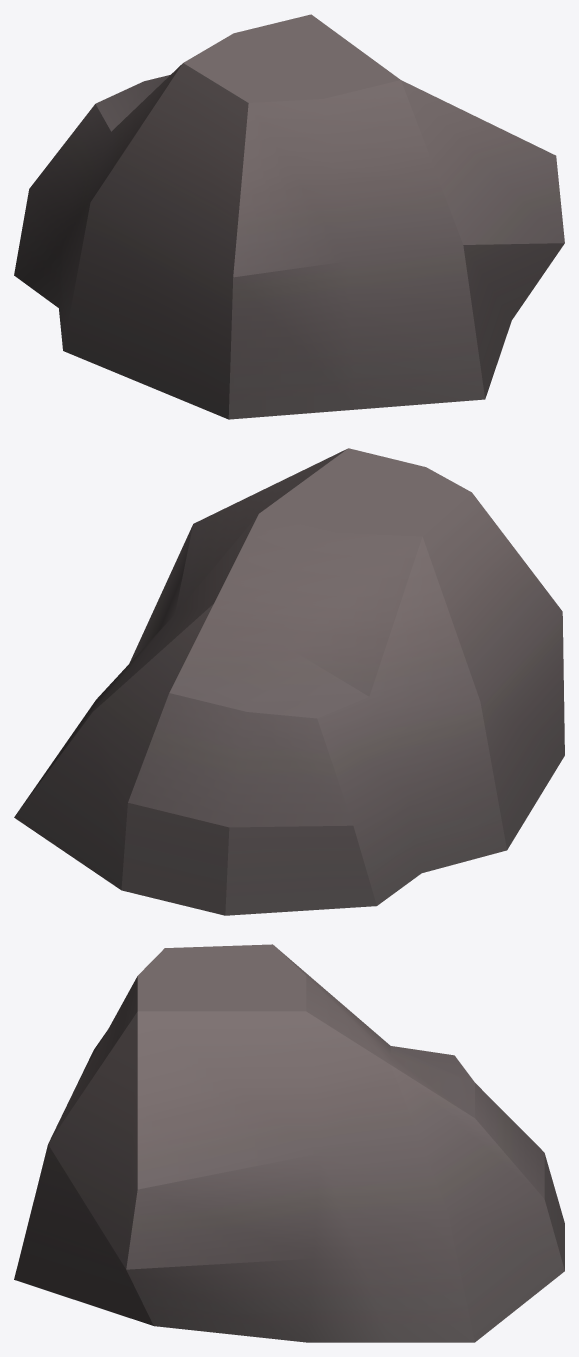
Rendered from Boulder.obj.
The picture shows the model from 3 angles, top to bottom: view 1: azimuth 30°, elevation 25°; view 2: azimuth 150°, elevation 25°; view 3: azimuth 270°, elevation 25°; orthographic projection. The views are drawn at different scales.
Visible parts, largest first — view 1: {mesh}Boulder_Boulder.002; view 2: {mesh}Boulder_Boulder.002; view 3: {mesh}Boulder_Boulder.002.
Boxes of the visible parts, x1,y1,x2,y2 form: {mesh}Boulder_Boulder.002: [14, 14, 564, 419]; {mesh}Boulder_Boulder.002: [14, 448, 564, 915]; {mesh}Boulder_Boulder.002: [14, 944, 564, 1342].
Size of the model in its own units: 79.2 by 51.42 by 98.85.
